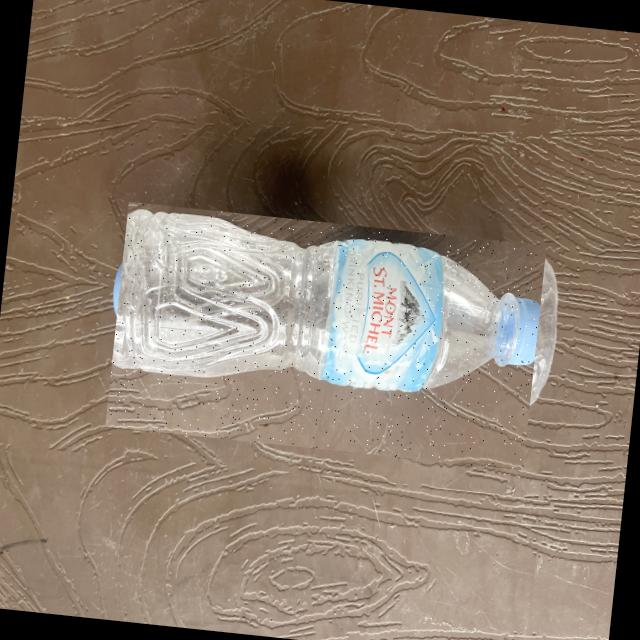REJECT: (104, 200, 545, 469)
